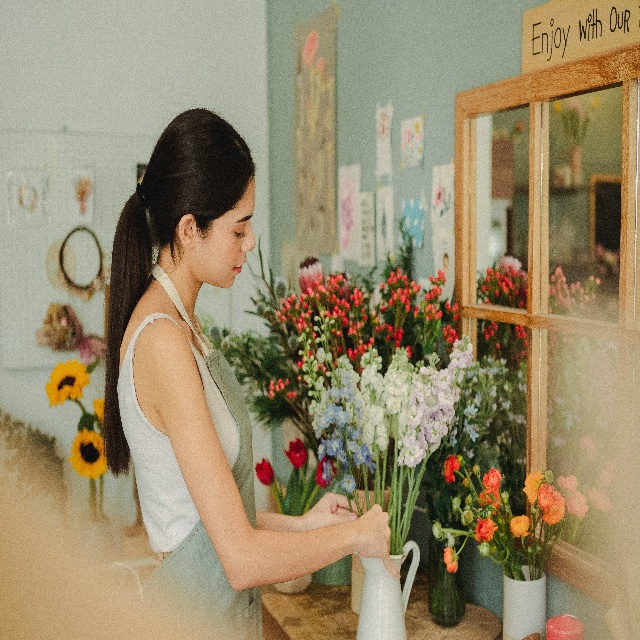Sin_guantes: (355, 503, 401, 581), (305, 493, 358, 520)
